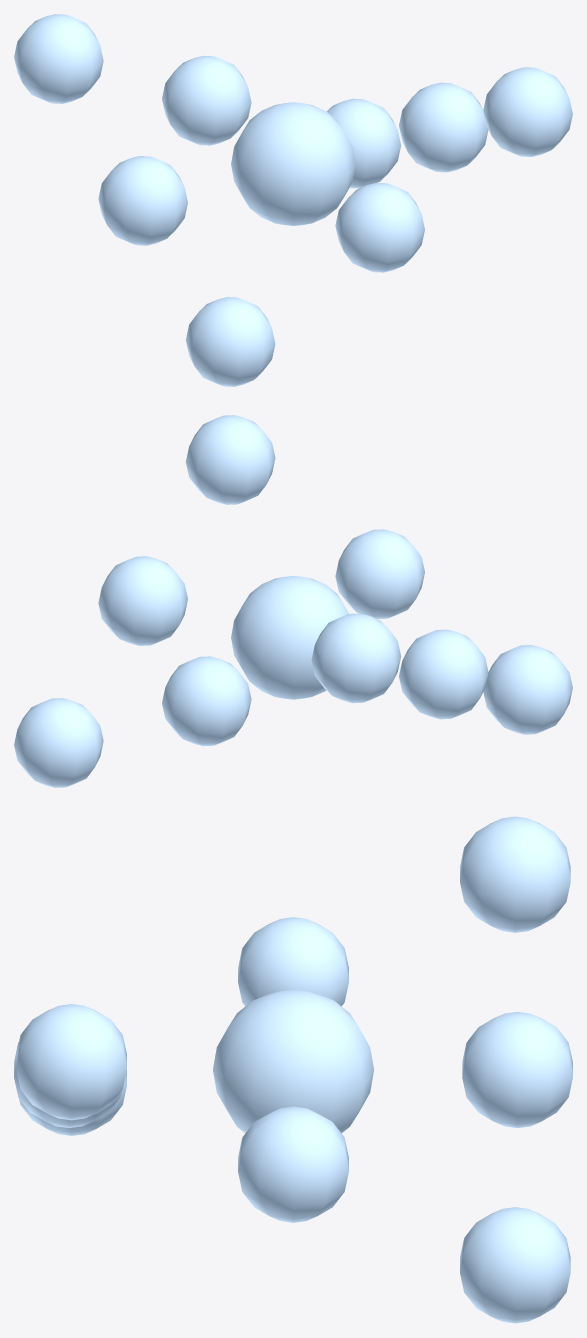
File: drone_swarm.glb
3 views of the same model, one above another, from view 1: azimuth 30°, elevation 25°; view 2: azimuth 150°, elevation 25°; view 3: azimuth 270°, elevation 25° (orthographic). The views are drawn at different scales.
Visible parts, largest first — view 1: core; view 2: core; view 3: core.
Part boxes in pixels (<box>): core: <box>14,14,572,386</box>; core: <box>14,415,572,787</box>; core: <box>14,816,572,1323</box>.
Bounding box in the file's own units: 1.26 × 0.76 × 1.25.
